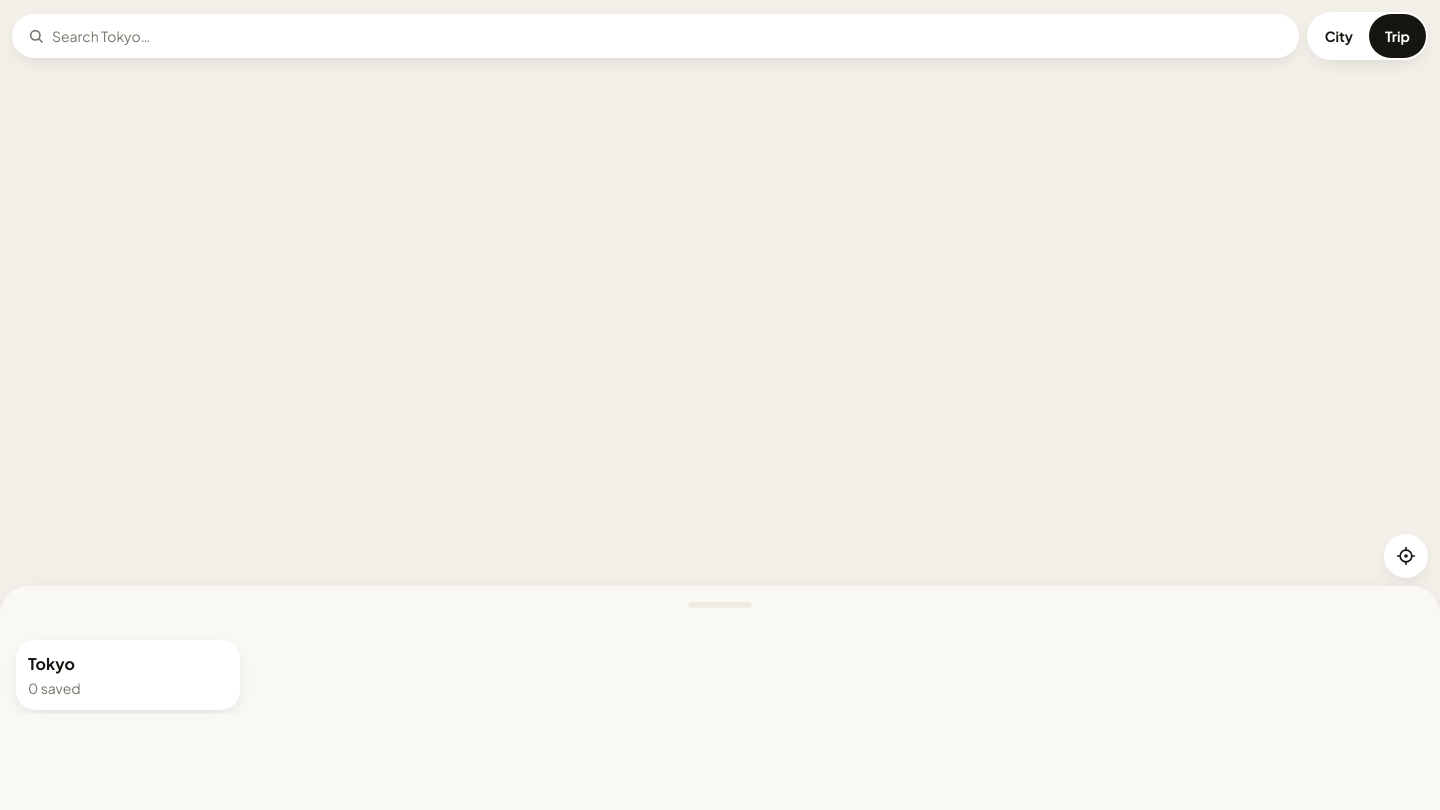
Scenario: the zone map › says so plainly when nothing in the zone has a location
Click the button "City" at {"x": 1339, "y": 36}, box [1309, 14, 1369, 58]
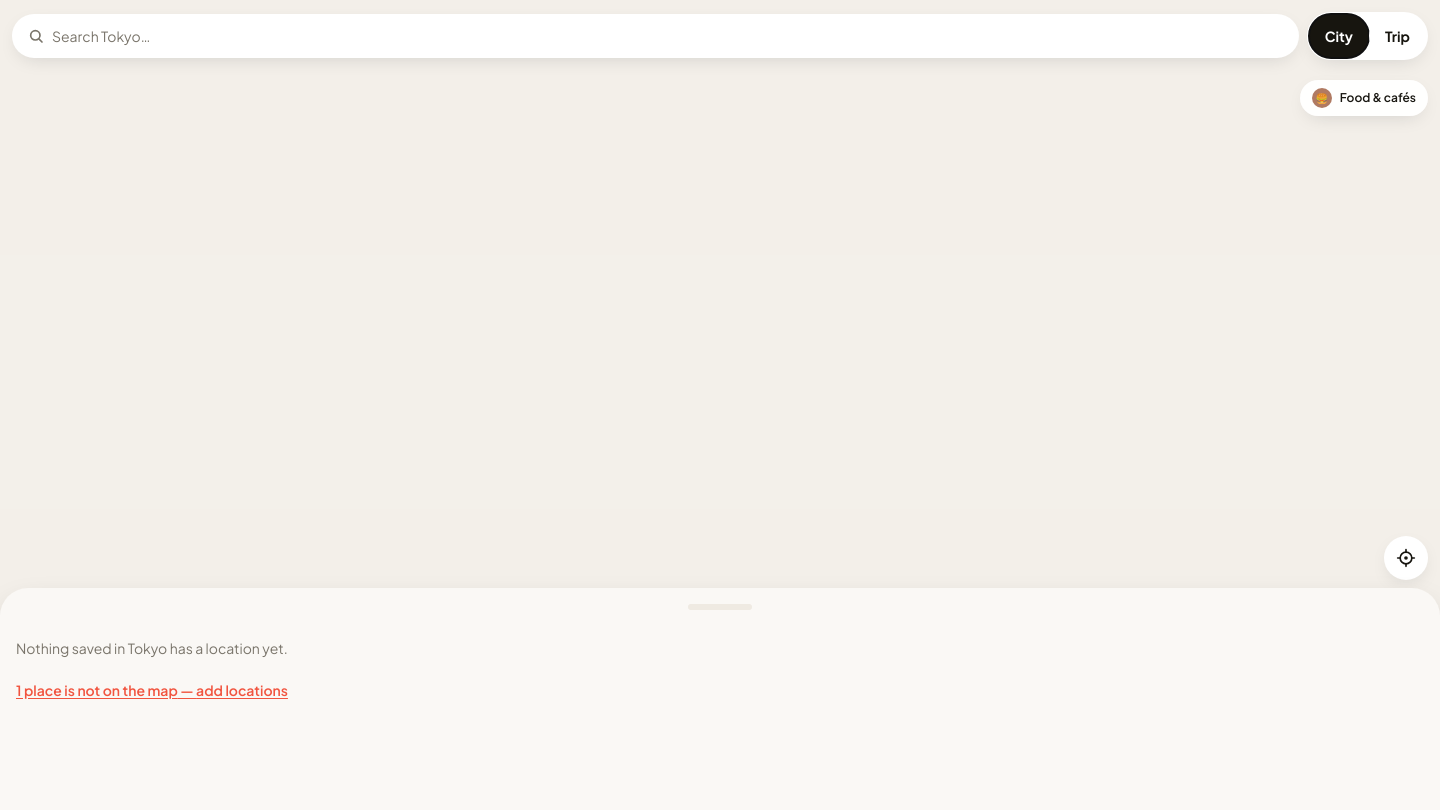
Check: the text "Nothing saved in Tokyo has a location yet." is shown, box [16, 639, 288, 657]
